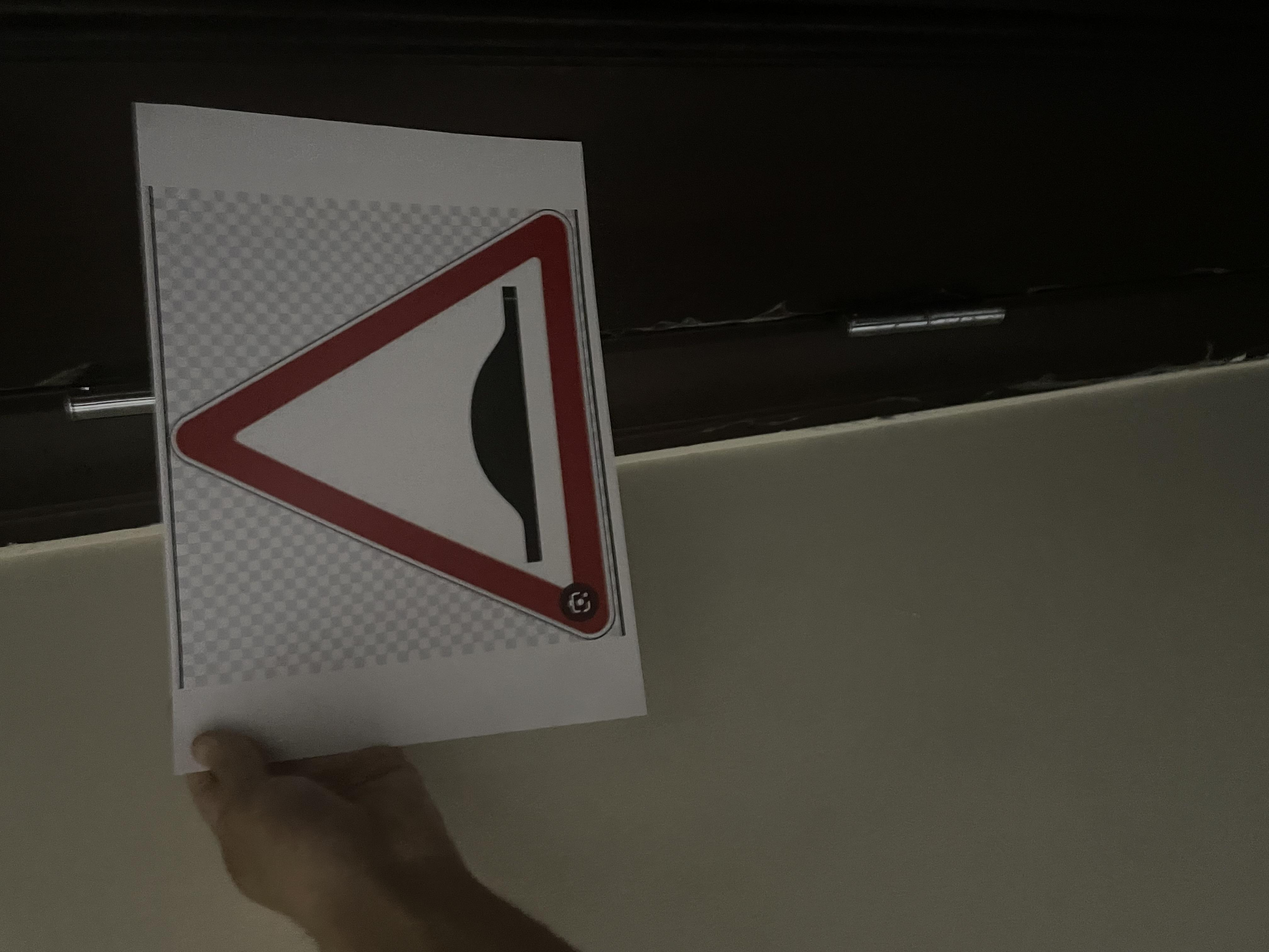Hump: (412, 126, 1004, 451)
